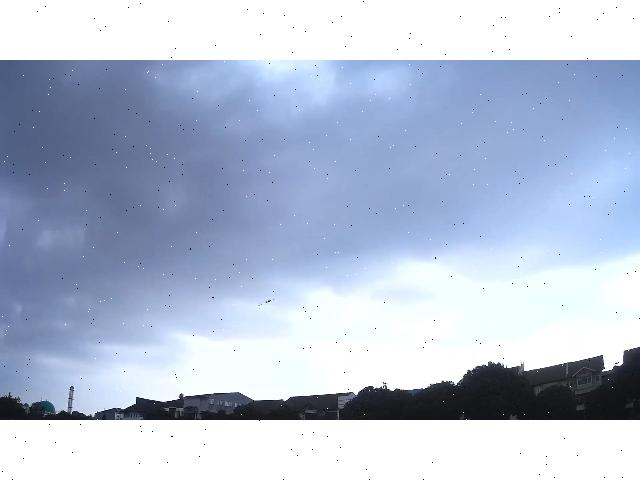Anti-Drone: (244, 292, 290, 314)
